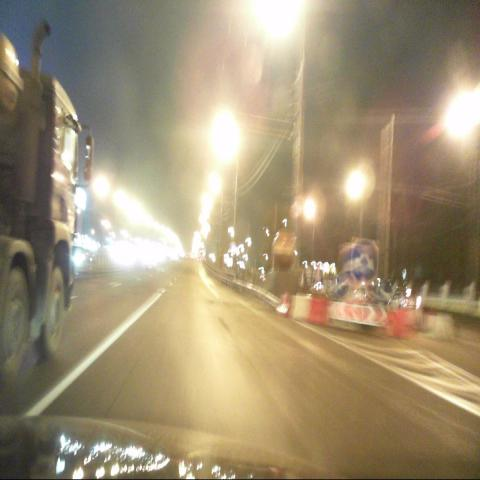4_2_3: (351, 236, 378, 284)
